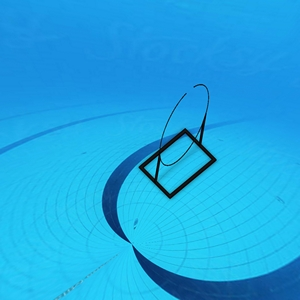circle: (137, 80, 226, 203)
